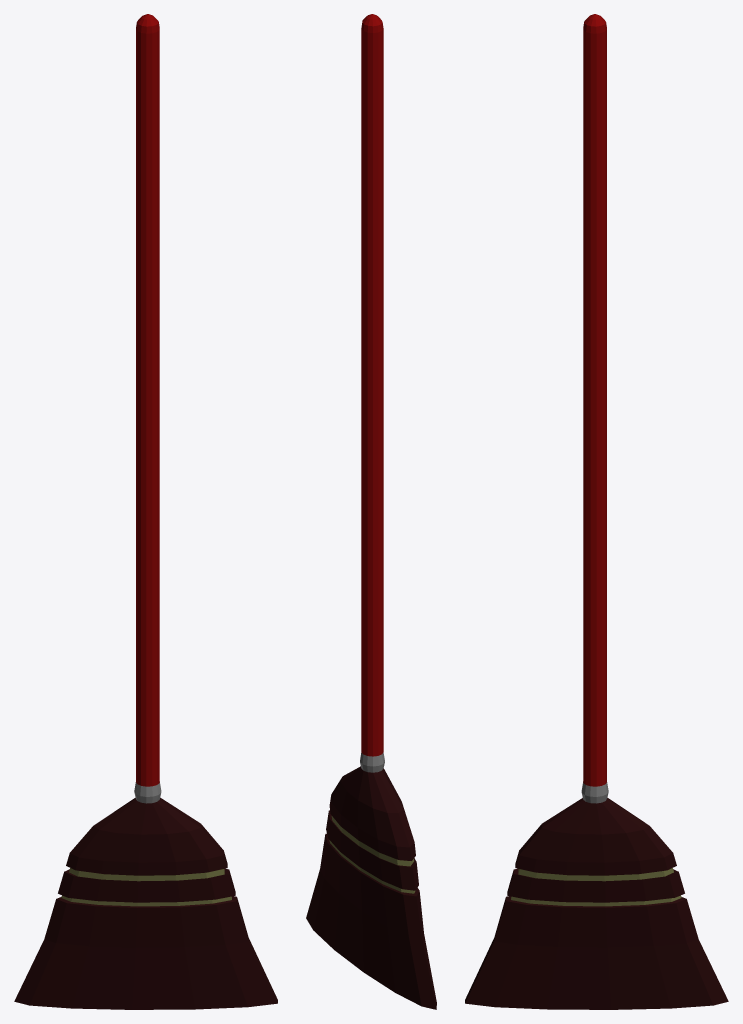
Rendered from broom.glb.
The picture shows the model from 3 angles, left to right: view 1: azimuth 90°, elevation 25°; view 2: azimuth 210°, elevation 25°; view 3: azimuth 270°, elevation 25°; orthographic projection. The views are drawn at different scales.
Parts seen in each view (by area): view 1: Cylinder; view 2: Cylinder; view 3: Cylinder.
Part boxes in pixels (<box>): Cylinder: <box>14,14,277,1009</box>; Cylinder: <box>306,14,436,1009</box>; Cylinder: <box>465,14,728,1009</box>.
Size of the model in its own units: 0.1585 by 3.74 by 0.9056.
